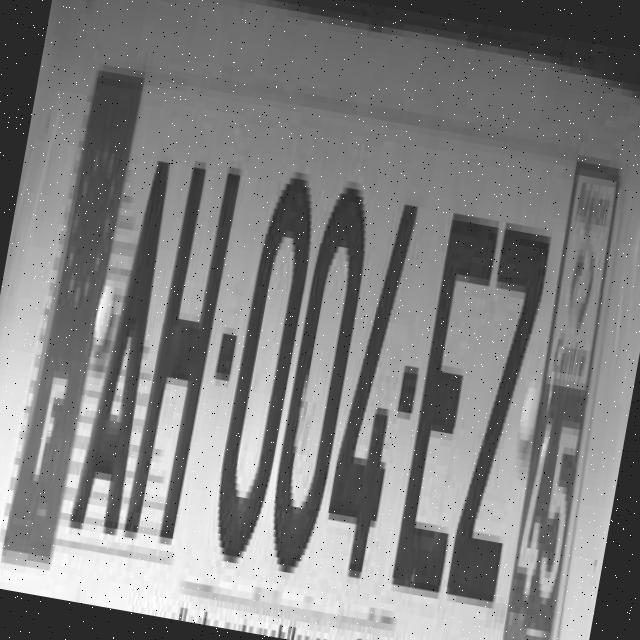EU: (0, 51, 640, 640)
France: (4, 45, 142, 576)
